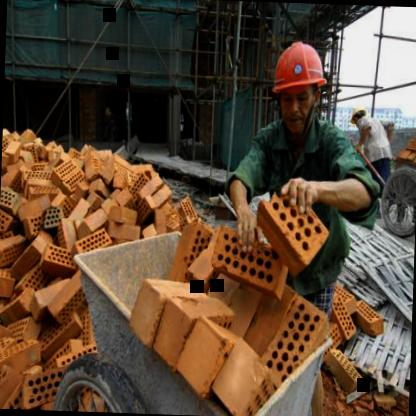helmet: (268, 35, 330, 136), (351, 102, 369, 127)
